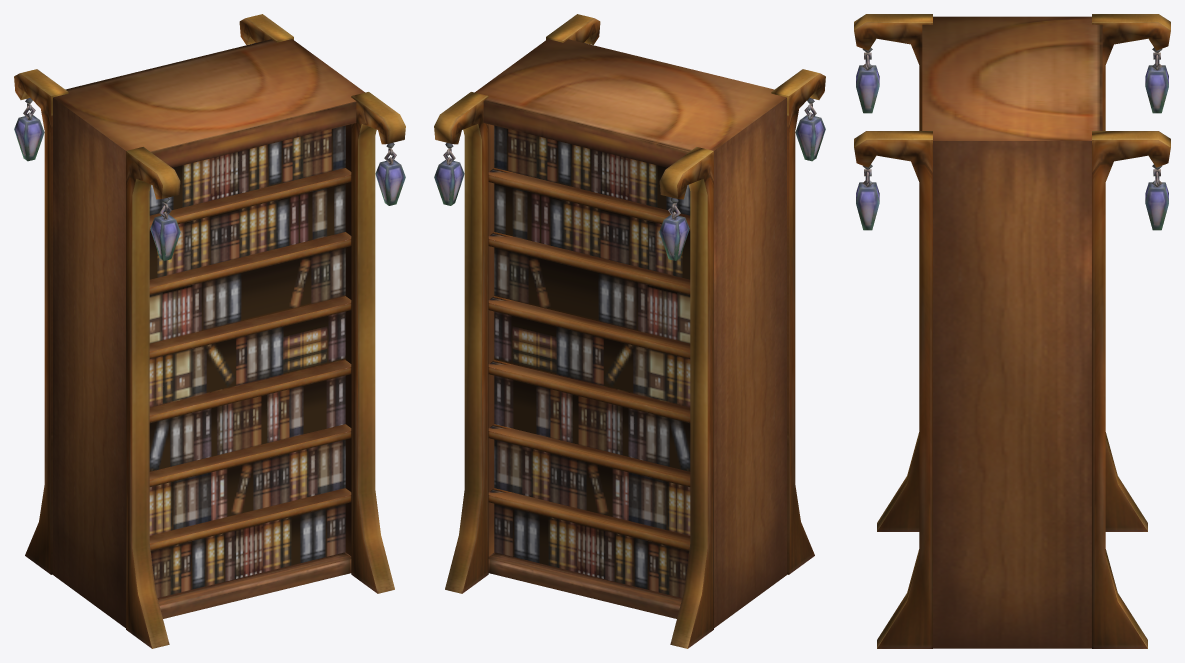
File: a_bookcase02.glb
3 renders of one model, left to right at view 1: azimuth 30°, elevation 25°; view 2: azimuth 150°, elevation 25°; view 3: azimuth 270°, elevation 25°, orthographic. The views are drawn at different scales.
Visible parts, largest first — view 1: a_bookcase02; view 2: a_bookcase02; view 3: a_bookcase02.
Boxes of the visible parts, x1,y1,x2,y2 form: a_bookcase02: (14,14,405,648); a_bookcase02: (434,14,825,648); a_bookcase02: (854,14,1170,648).
Bounding box in the file's own units: 2 × 3.74 × 2.11.
3 materials, 3 textured.
